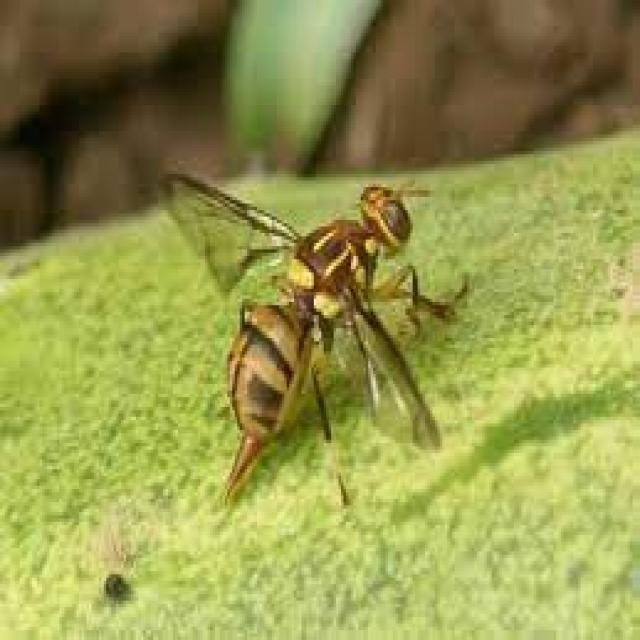Fruit fly: (152, 164, 476, 527)
